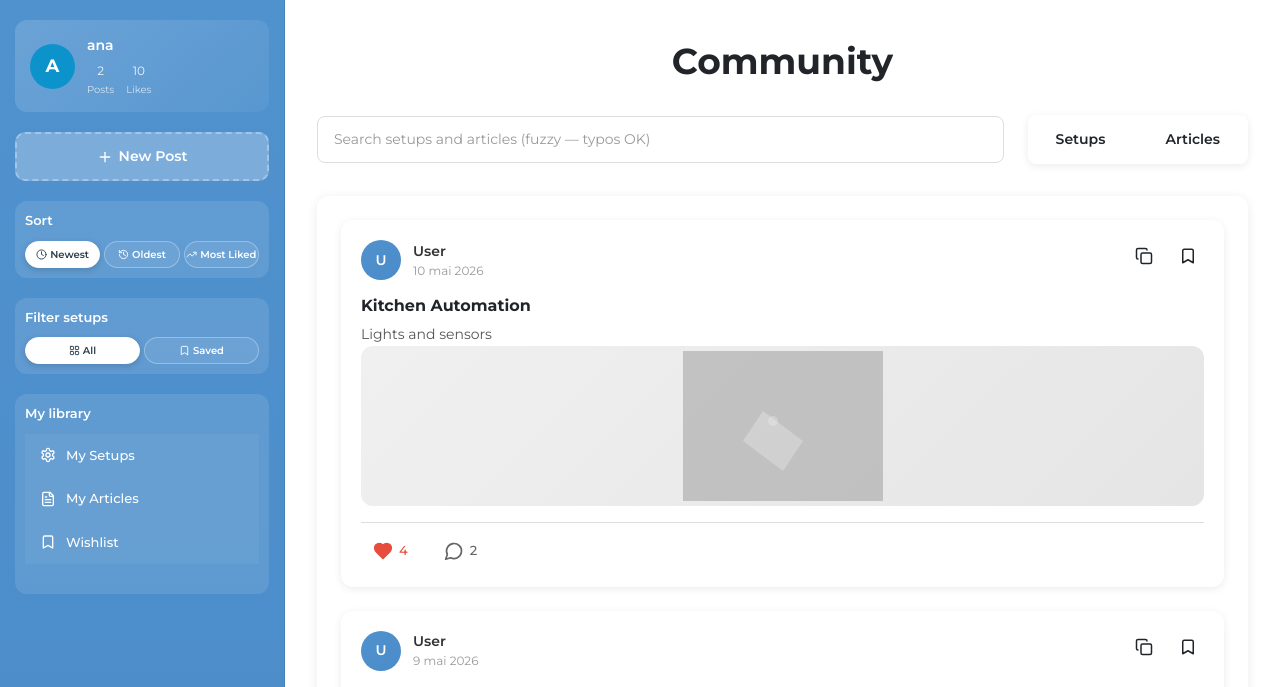
Scenario: CommunityPage › sorts articles oldest first and clears an empty tag-filter result
Expected: the heading "Kitchen Automation" is shown, [361,296,531,315]
Click the button "Articles" at {"x": 1193, "y": 140}, box [1141,119,1244,160]
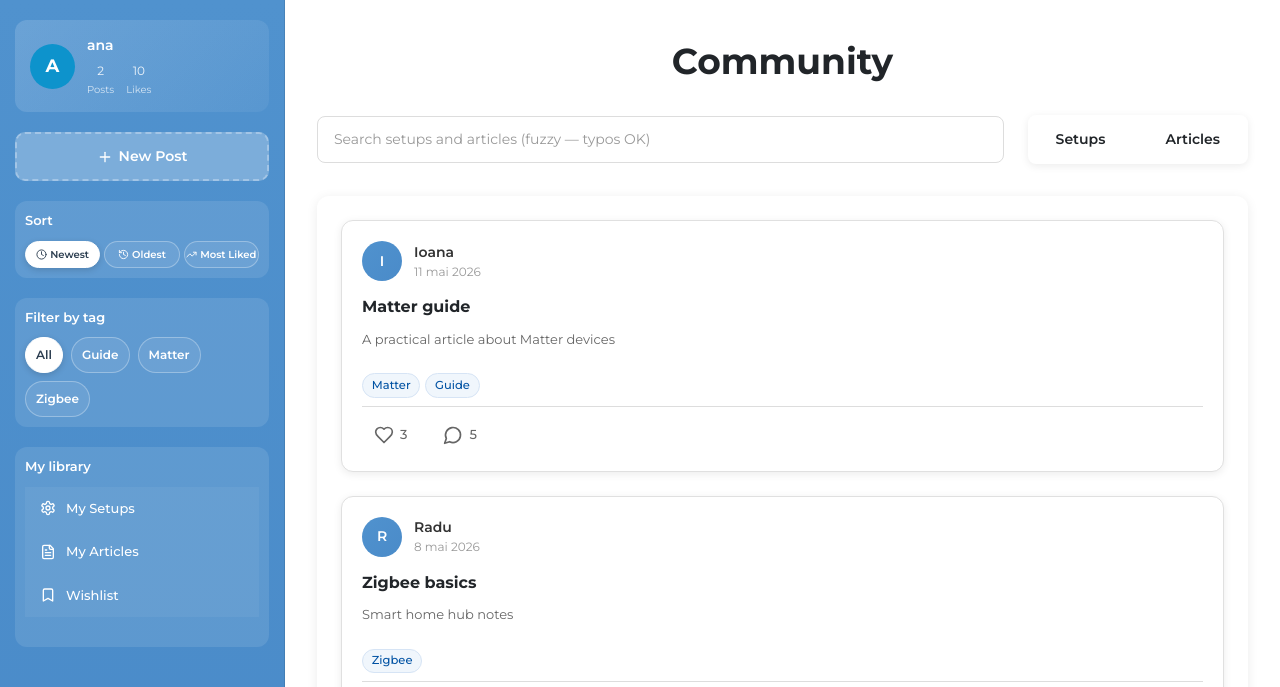
Click the button "Oldest" at {"x": 142, "y": 254}, box [104,240,180,268]
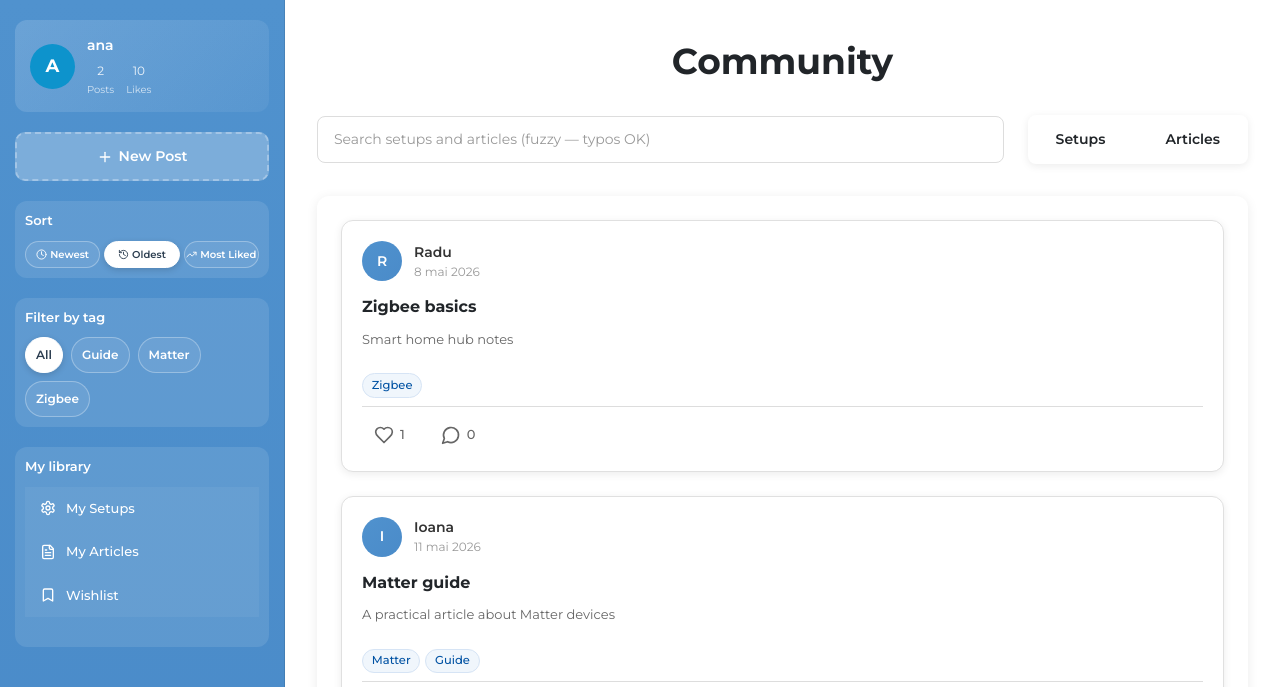
Expected: the heading "Zigbee basics" is shown, [362,297,476,316]
Click the button "Guide" below "Filter by tag" at {"x": 100, "y": 355}, box [71,337,130,373]
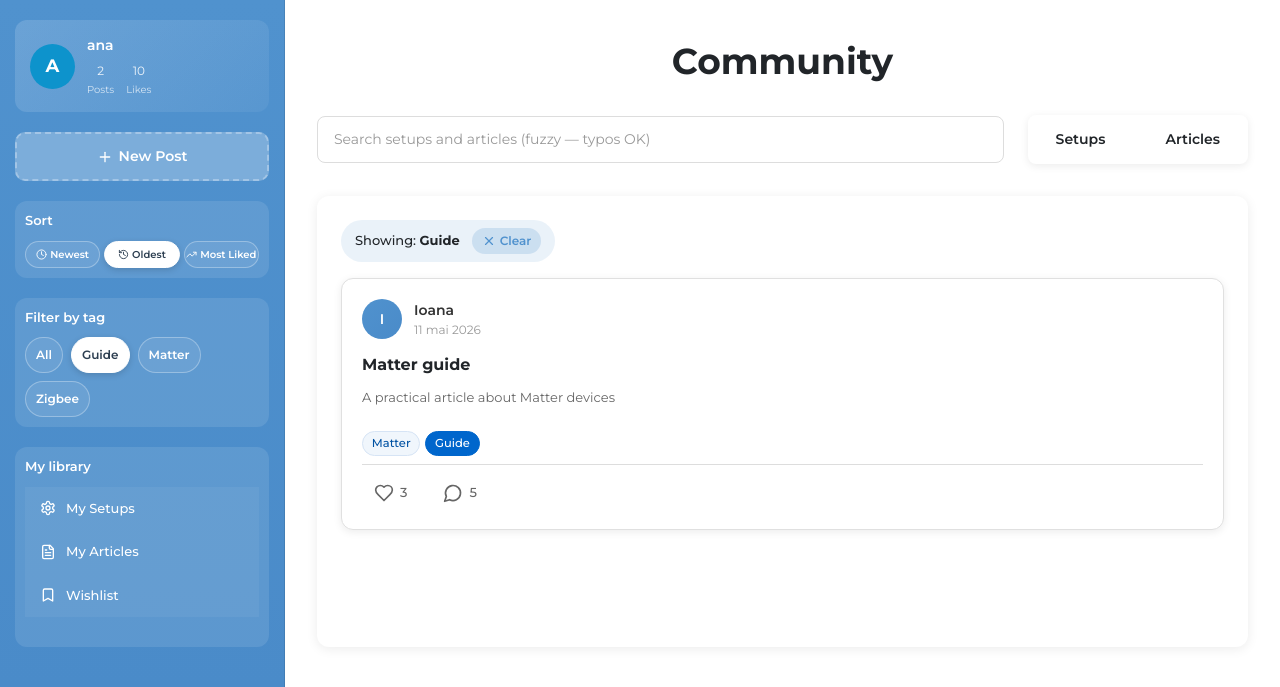
Expected: the text "Showing:" is shown, [355,232,420,248]
Type "not-present" into the field with placeholder "Search setups and articles (fuzzy — typos OK)" at {"x": 660, "y": 140}, box [317,116,1004,163]
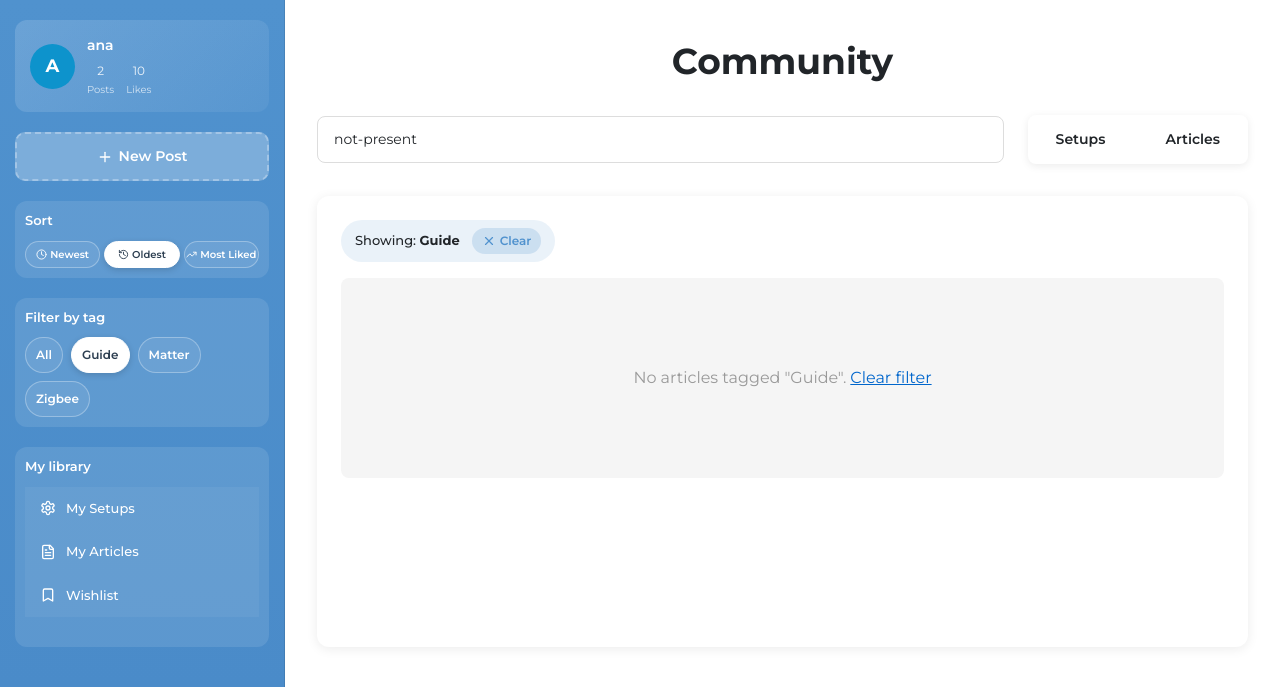
Expected: the text "No articles tagged \"Guide\". Clear filter" is shown, [341,278,1224,478]
Click the button "Clear filter" at {"x": 891, "y": 378}, box [850,366,932,390]
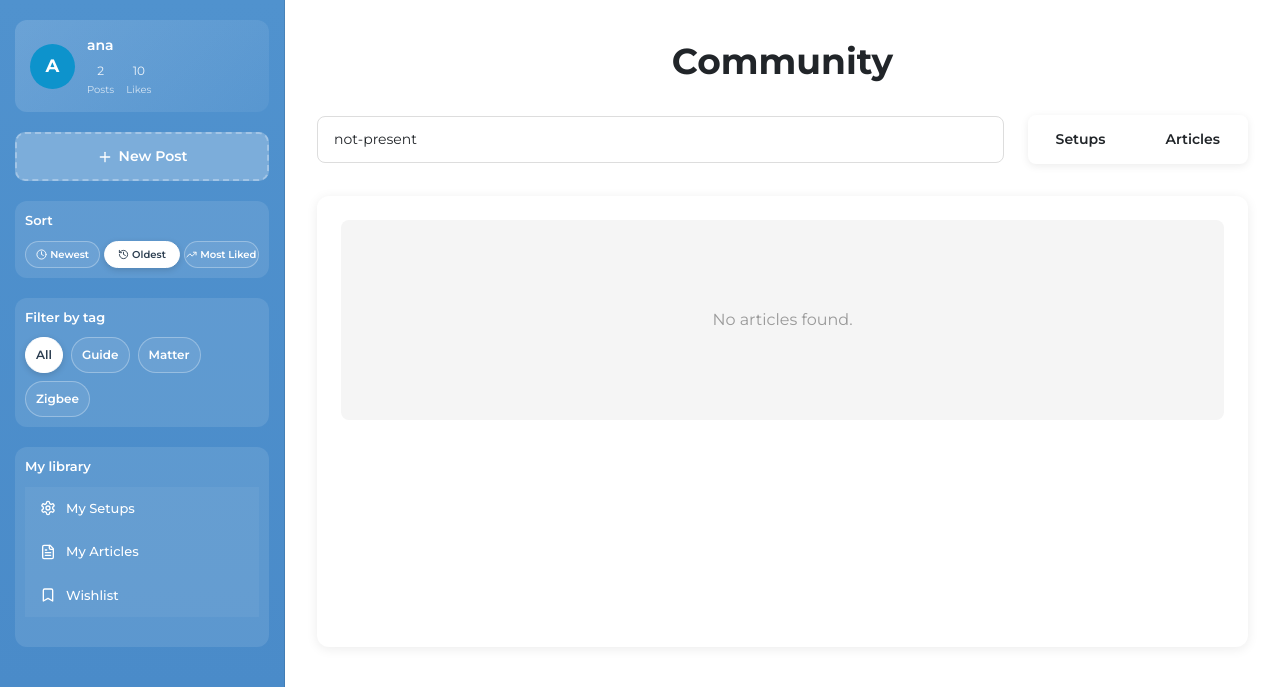
Expected: the text "No articles found." is shown, [341,220,1224,420]
